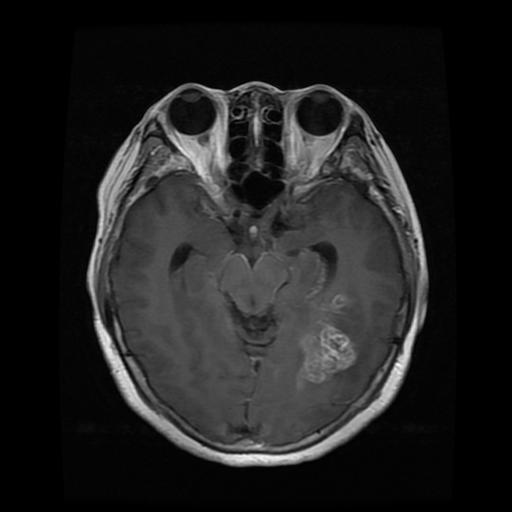Gliomia_tumour: (295, 290, 373, 400)
